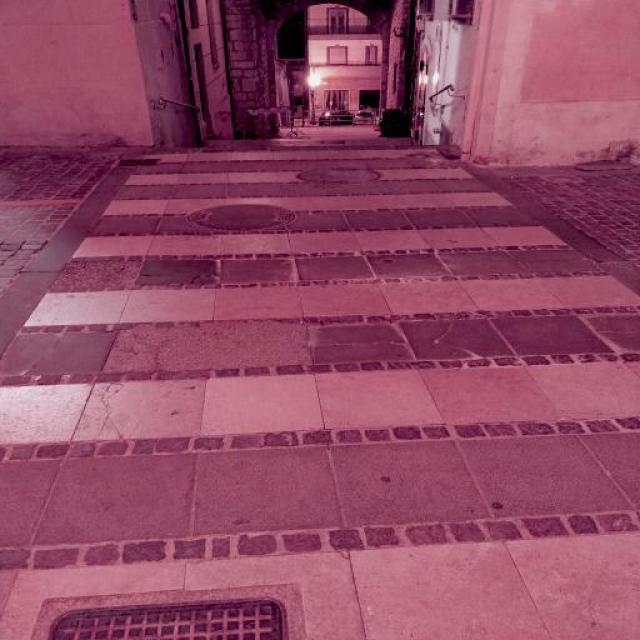crosswalk: (0, 145, 640, 577)
